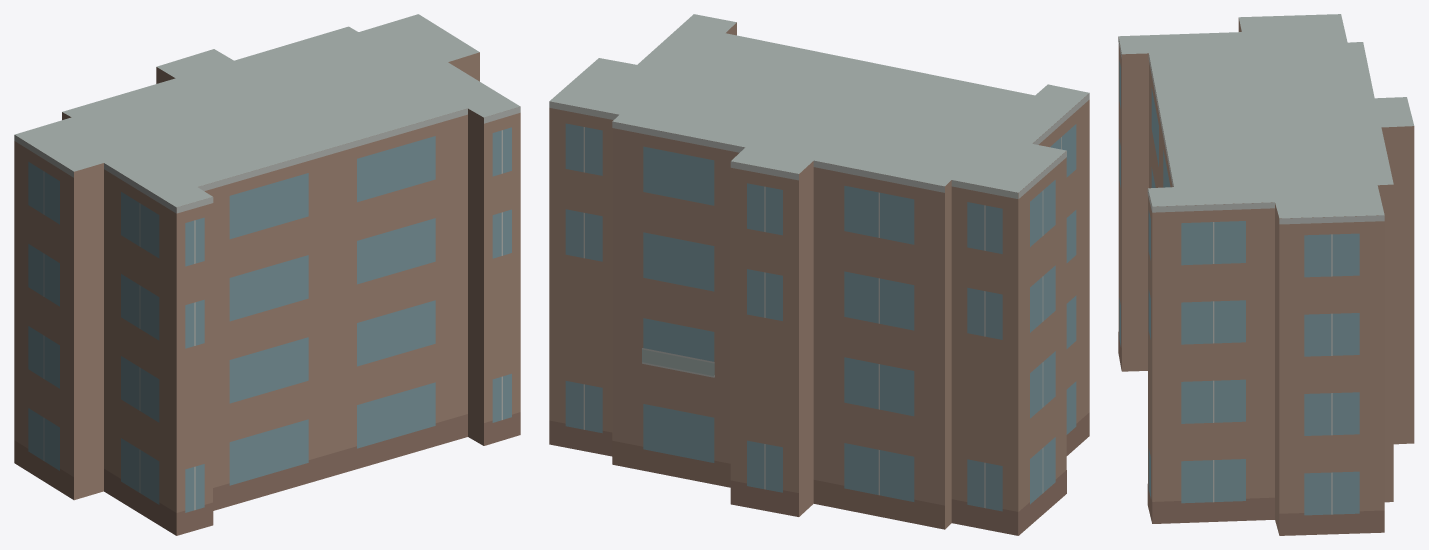
File: survey-upis-32758353.glb
The picture shows the model from 3 angles, left to right: view 1: azimuth 30°, elevation 25°; view 2: azimuth 150°, elevation 25°; view 3: azimuth 270°, elevation 25°; orthographic projection. The views are drawn at different scales.
Visible parts, largest first — view 1: survey-upis-32758353.tmp; view 2: survey-upis-32758353.tmp; view 3: survey-upis-32758353.tmp.
Part boxes in pixels (x1,y1,x2,y2): survey-upis-32758353.tmp: (14,14,520,535); survey-upis-32758353.tmp: (549,14,1089,535); survey-upis-32758353.tmp: (1118,14,1414,535).
Bounding box in the file's own units: 17.83 × 12.9 × 10.9.
